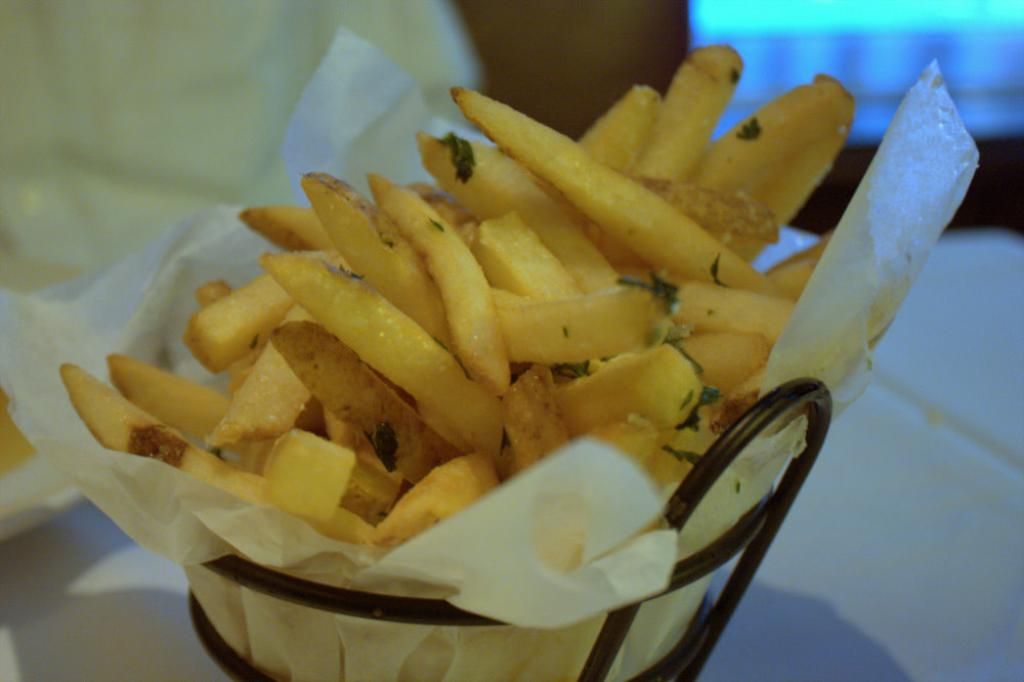French fries: (55, 36, 875, 570)
